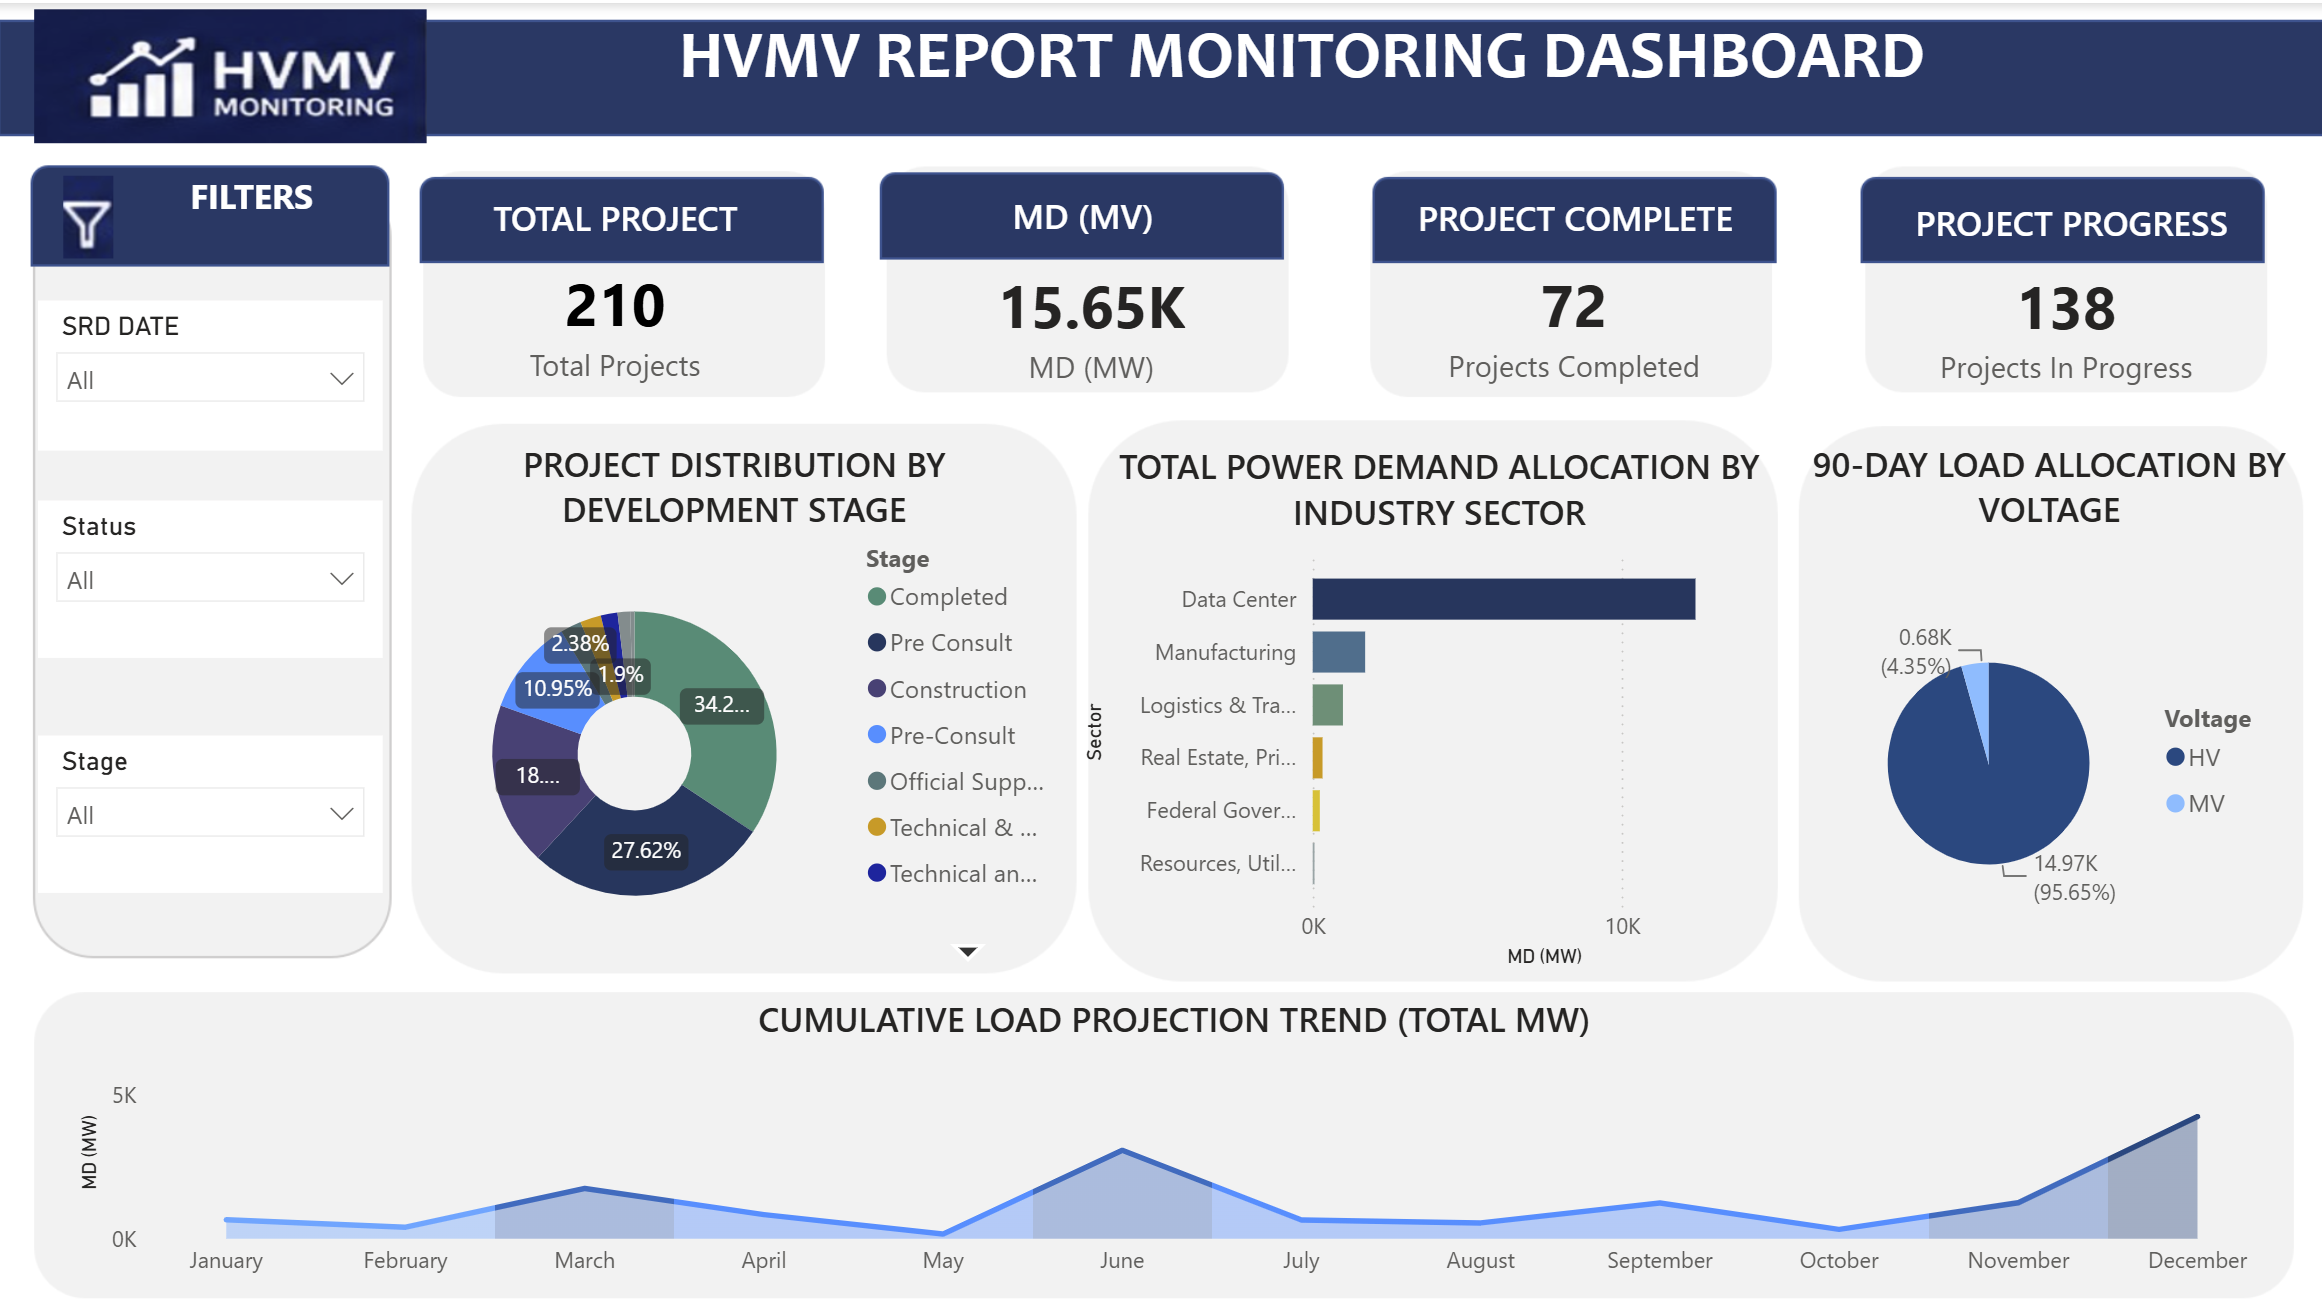

Layout of this report page (visuals, bound fields, positions):
{"tool":"powerbi","page":{"name":"Page 1","canvas":[1280,720],"ordinal":0},"visuals":[{"type":"cardVisual","fields":{"Data":["Sum(Project Details.MD (MW))"]},"box":[498.1,119.4,204.5,115.3],"z":0},{"type":"cardVisual","fields":{"Data":["Project Details.Projects Completed"]},"box":[761.6,126.2,207.2,100.2],"z":1000},{"type":"cardVisual","fields":{"Data":["Project Details.Projects In Progress"]},"box":[1033.3,113.9,204.5,126.2],"z":2000},{"type":"slicer","fields":{"Values":["Project Details.SRD"]},"box":[22,163.3,189.4,82.3],"z":3000},{"type":"slicer","fields":{"Values":["Commission target.Status"]},"box":[22,273.1,189.4,86.4],"z":4000},{"type":"slicer","fields":{"Values":["Commission target.Stage"]},"box":[22,402.1,189.4,86.4],"z":5000},{"type":"donutChart","title":"PROJECT DISTRIBUTION BY DEVELOPMENT STAGE","fields":{"Category":["Project Details.Stage"],"Y":["Project Details.Total Projects"]},"box":[216.8,240.1,374.6,293.7],"z":6000},{"type":"clusteredBarChart","title":"TOTAL POWER DEMAND ALLOCATION BY INDUSTRY SECTOR","fields":{"Category":["Project Details.Sector"],"Y":["Sum(Project Details.MD (MW))"]},"box":[591.4,241.5,399.3,292.3],"z":7000},{"type":"lineChart","title":"CUMULATIVE LOAD PROJECTION TREND (TOTAL MW)","fields":{"Category":["Project Details.SRD - Copy.Variation.Date Hierarchy.Month"],"Y":["Sum(Project Details.MD (MW))"]},"box":[39.8,544.8,1211.7,163.3],"z":8000},{"type":"pieChart","title":"90-DAY LOAD ALLOCATION BY VOLTAGE","fields":{"Category":["Project Details.Voltage"],"Y":["Sum(Project Details.MD (MW))"]},"box":[990.7,240.1,270.3,304.6],"z":9000},{"type":"cardVisual","fields":{"Data":["Project Details.Total Projects"]},"box":[216.8,123.5,244.3,105.7],"z":10000},{"type":"textbox","box":[255.2,0,920.8,63.1],"z":11000},{"type":"textbox","box":[67.2,87.8,144.1,35.7],"z":12000},{"type":"textbox","box":[189.4,100.2,299.1,52.1],"z":13000},{"type":"textbox","box":[488.5,98.8,214.1,41.2],"z":14000},{"type":"textbox","box":[716.3,100.2,299.1,49.4],"z":15000},{"type":"textbox","box":[1025,102.9,226.4,46.7],"z":16000}]}

Visuals, with their boxes in screenshot pixels (x1, y1, x2, y2), scaled from the page's 1280x720 canvas onto the 2322x1307 screenshot:
cardVisual - Sum(Project Details.MD (MW)): detection(904, 217, 1275, 426)
cardVisual - Project Details.Projects Completed: detection(1382, 229, 1757, 411)
cardVisual - Project Details.Projects In Progress: detection(1874, 207, 2245, 436)
slicer - Project Details.SRD: detection(40, 296, 383, 446)
slicer - Commission target.Status: detection(40, 496, 383, 653)
slicer - Commission target.Stage: detection(40, 730, 383, 887)
"PROJECT DISTRIBUTION BY DEVELOPMENT STAGE" donutChart: detection(393, 436, 1073, 969)
"TOTAL POWER DEMAND ALLOCATION BY INDUSTRY SECTOR" clusteredBarChart: detection(1073, 438, 1797, 969)
"CUMULATIVE LOAD PROJECTION TREND (TOTAL MW)" lineChart: detection(72, 989, 2270, 1285)
"90-DAY LOAD ALLOCATION BY VOLTAGE" pieChart: detection(1797, 436, 2288, 989)
cardVisual - Project Details.Total Projects: detection(393, 224, 836, 416)
textbox: detection(463, 0, 2133, 115)
textbox: detection(122, 159, 383, 224)
textbox: detection(344, 182, 886, 276)
textbox: detection(886, 179, 1275, 254)
textbox: detection(1299, 182, 1842, 272)
textbox: detection(1859, 187, 2270, 272)
